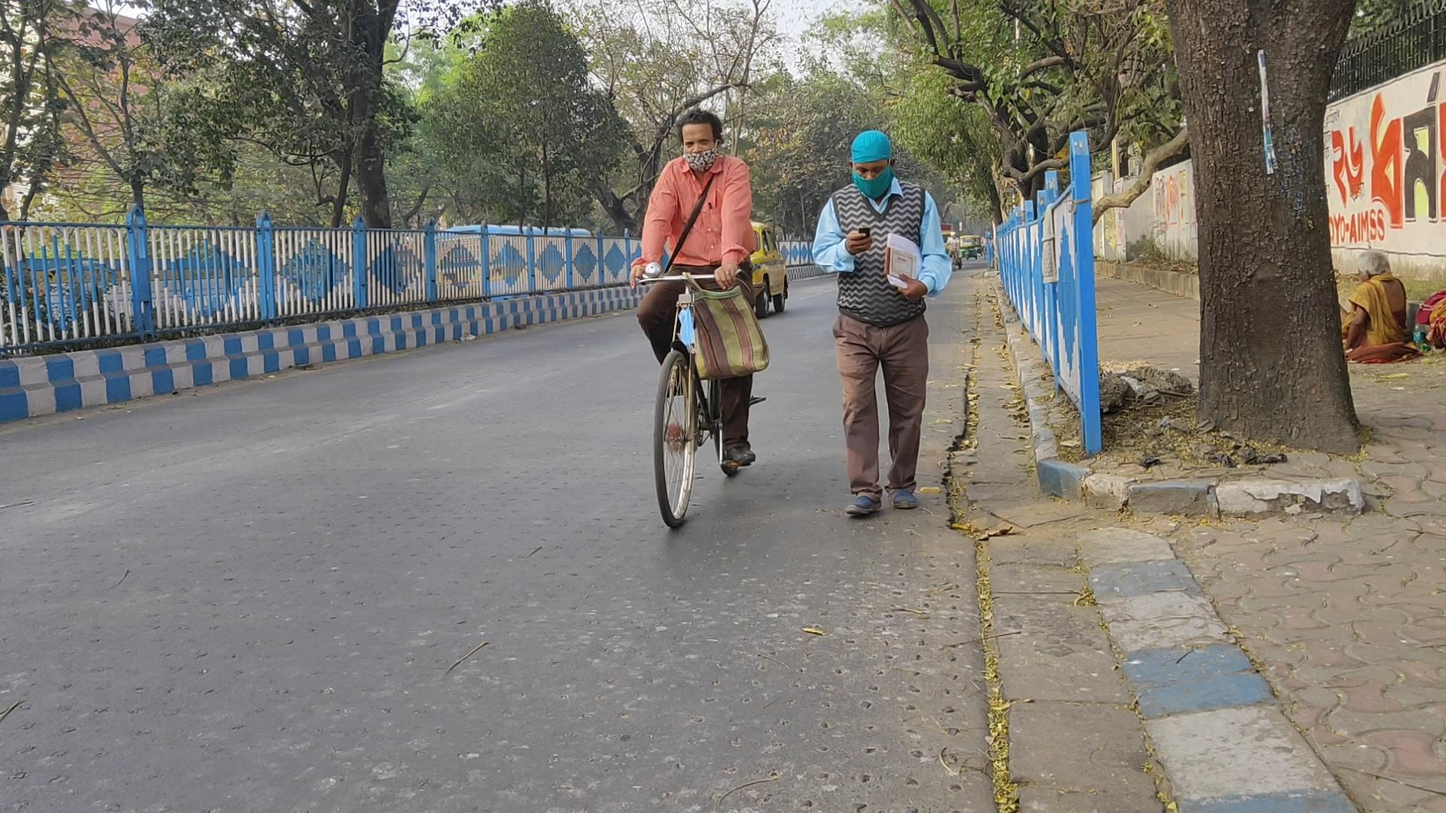Auto: (959, 234, 978, 262)
bike: (630, 109, 770, 527), (947, 230, 959, 273)
car: (747, 220, 790, 320)
